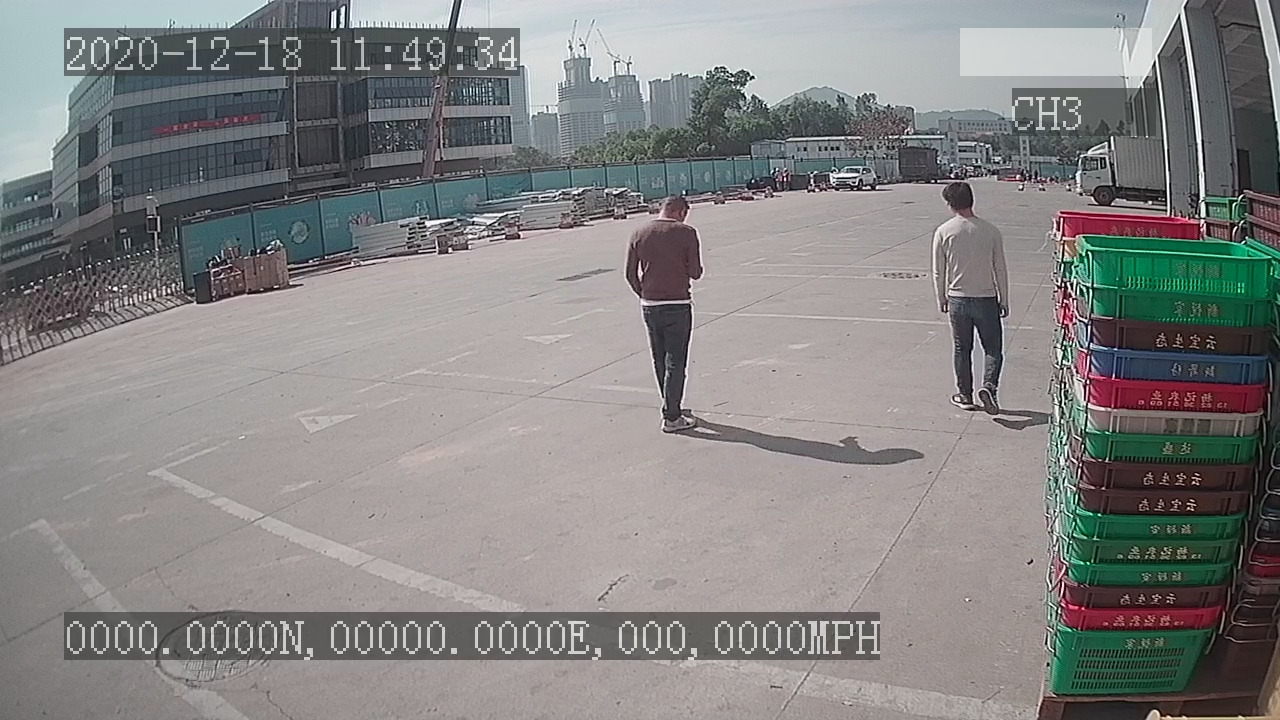person: (620, 190, 709, 436), (927, 177, 1013, 422)
